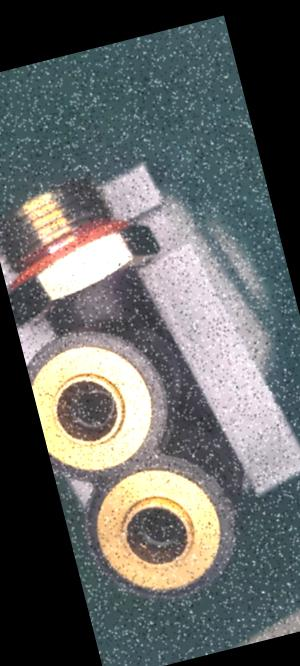bump: (220, 503, 250, 547)
off-centered: (59, 379, 124, 436)
white mark: (73, 293, 91, 313)
